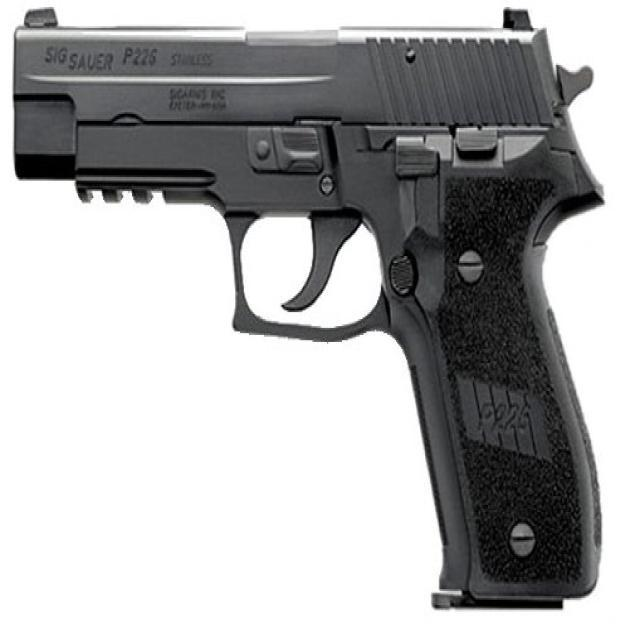Pistol: (5, 2, 640, 640)
